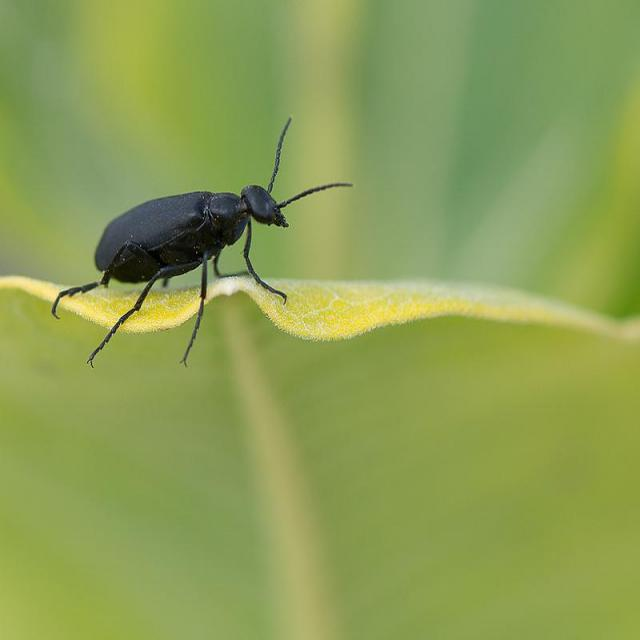BlisterBeetle-Adult-: (51, 117, 331, 370)
